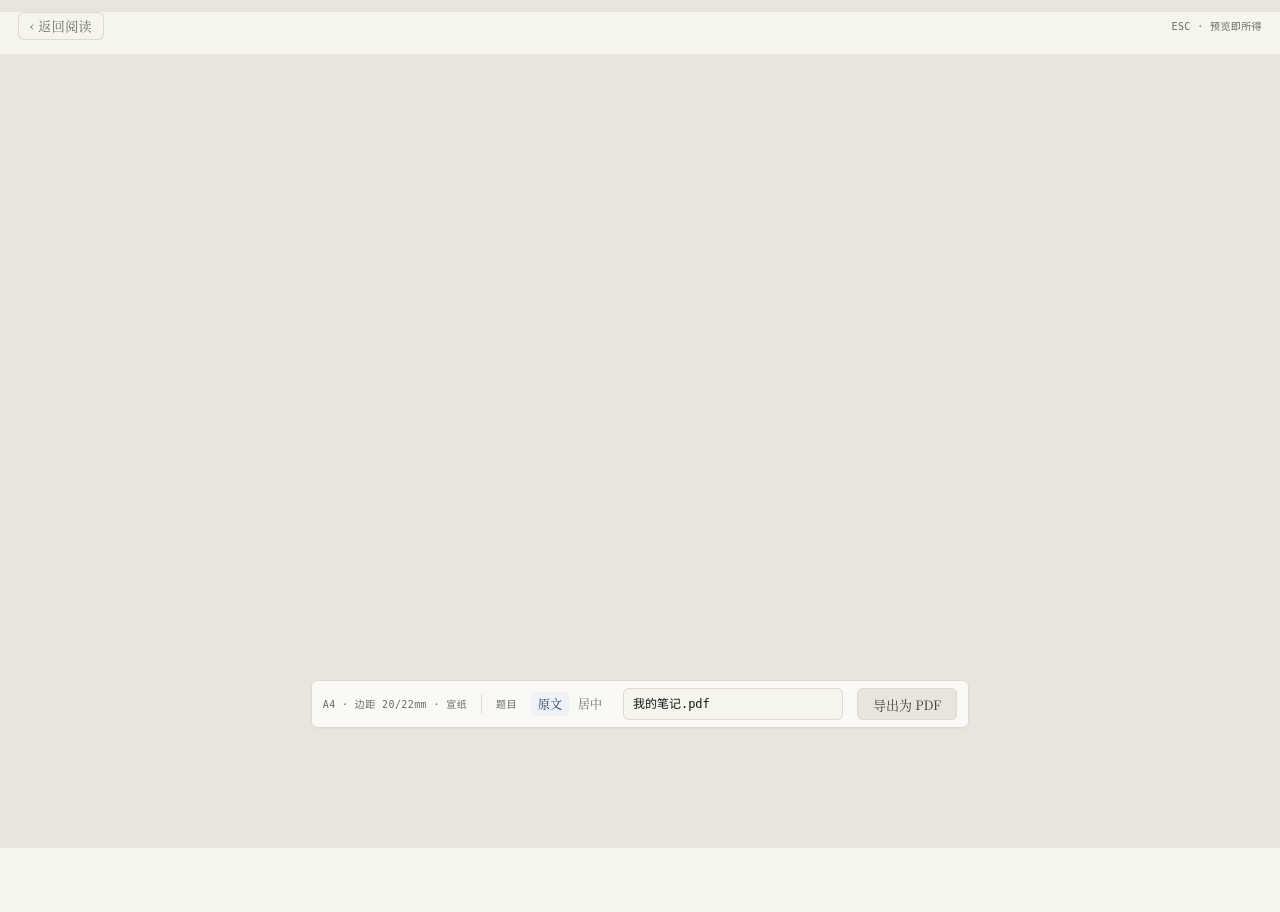
Scenario: 后端报错：状态行给出失败原因
Click the button "导出为 PDF": (907,704) [857,688,957,720]
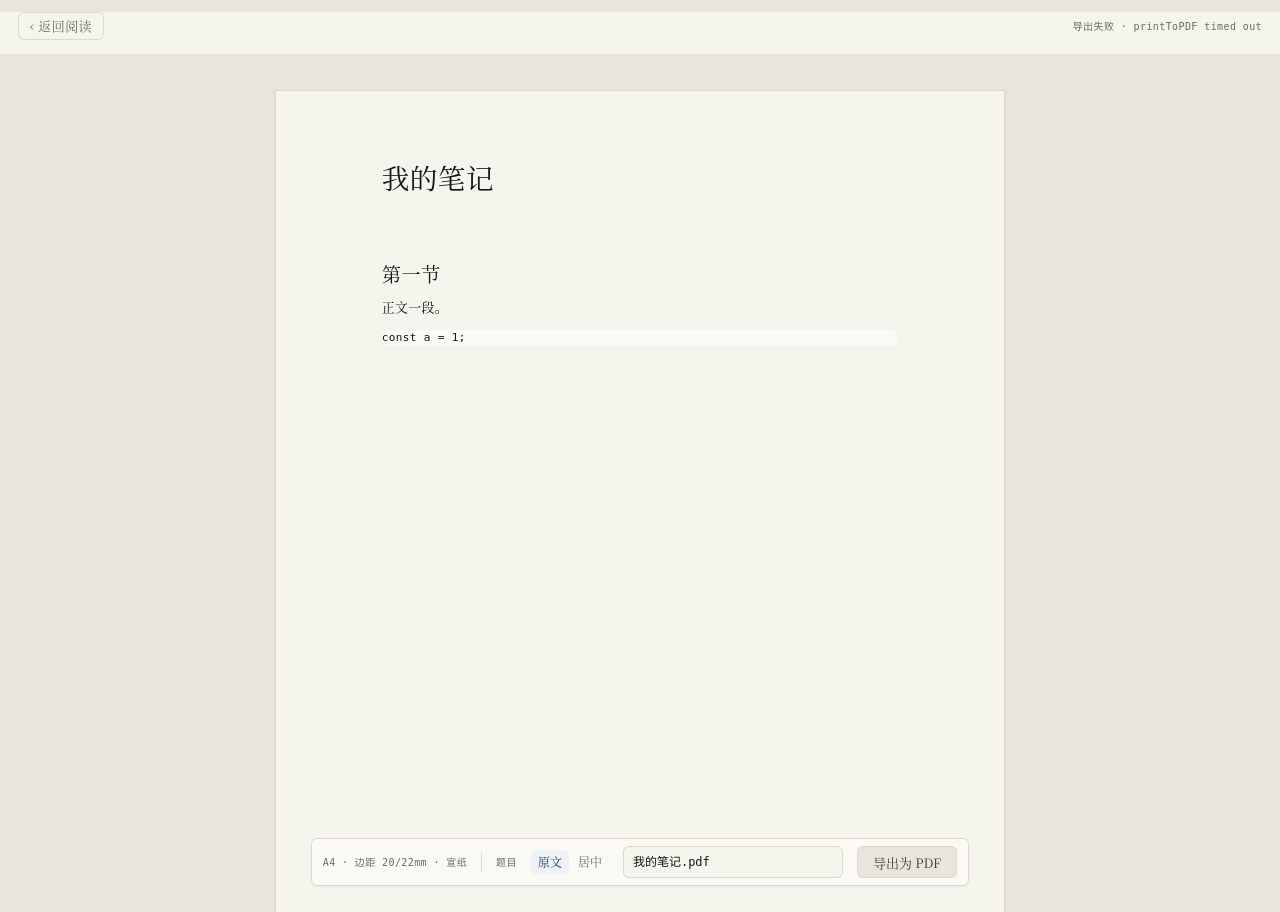
Expected: the text "导出失败 · printToPDF timed out" is shown, [1073,18,1262,34]
